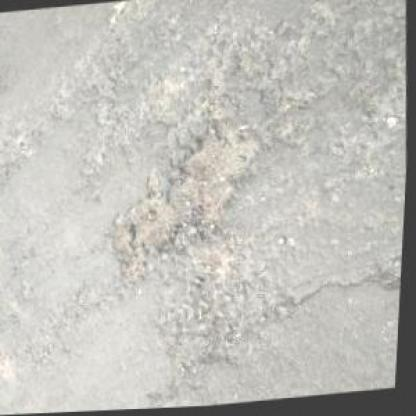pothole: (97, 119, 266, 291)
